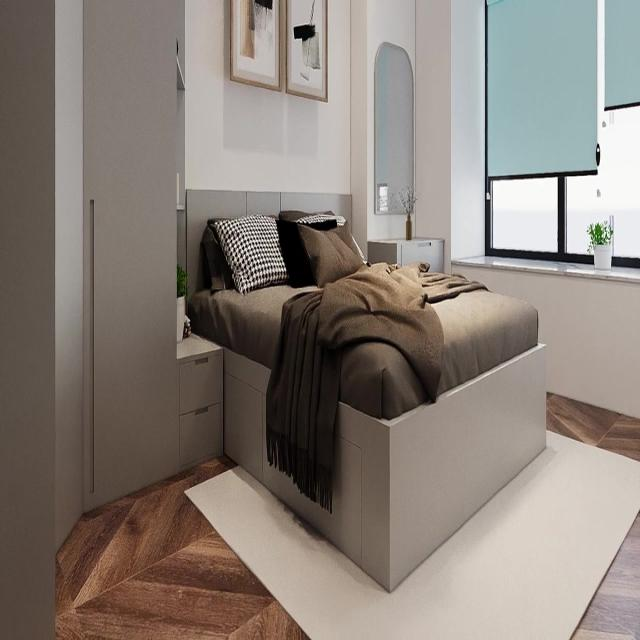obstacle: (185, 189, 547, 593), (177, 344, 221, 472)
